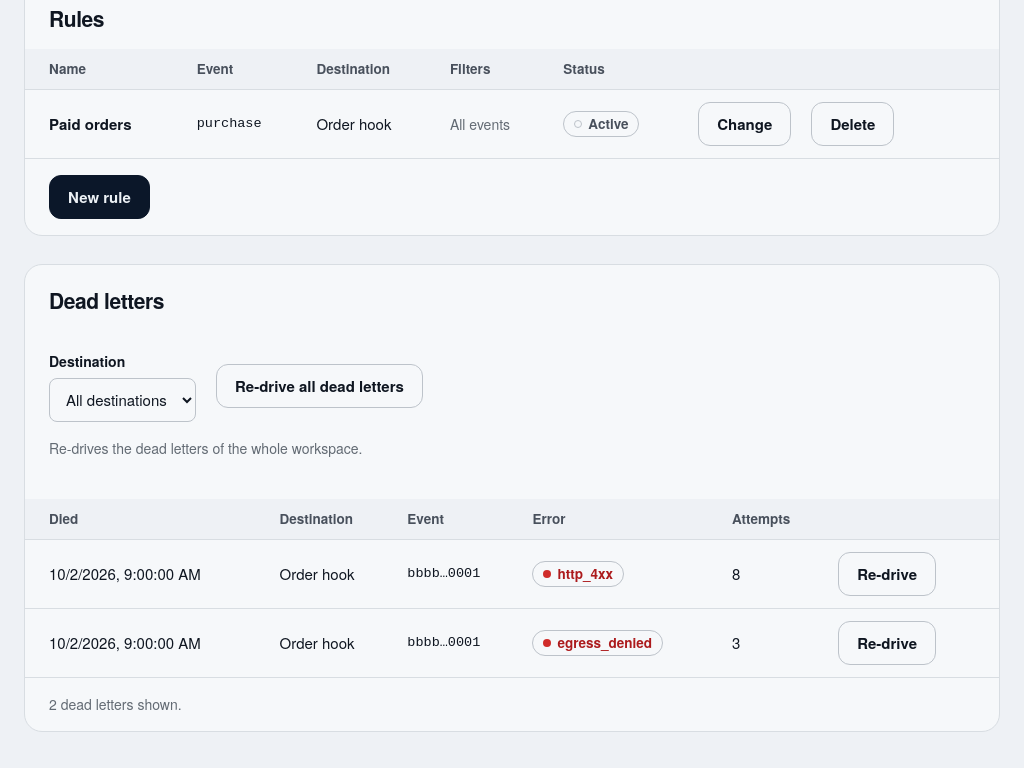
it: dead letters › re-drives one row only after the confirmation
The image size is (1024, 768).
(page scrolled)
Click the button with aria-label "Re-drive the dead letter" at (887, 574), box [838,552,936,596]
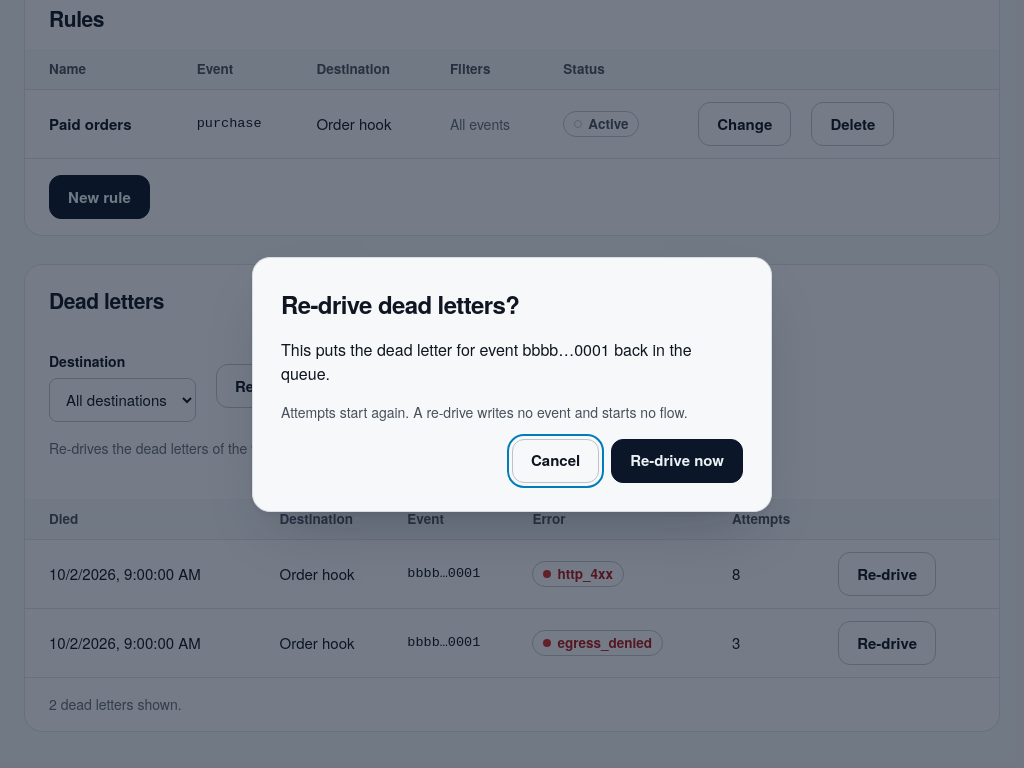
Click the button "Re-drive now" at (677, 460), box [611,438,743,482]
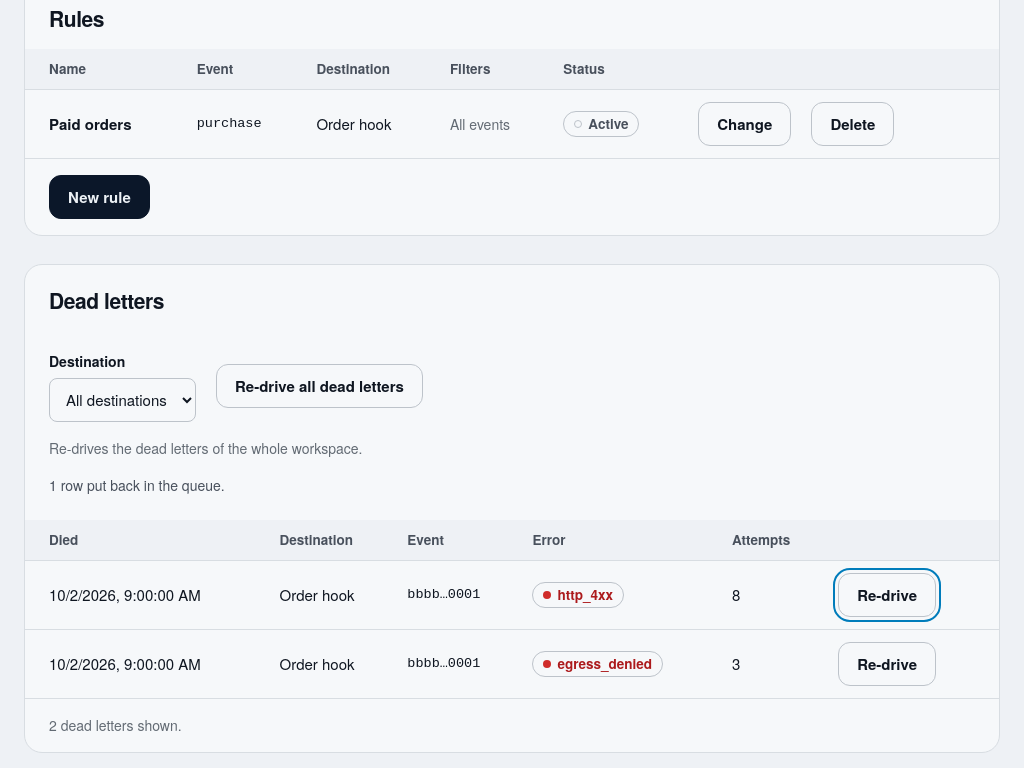
Now the text "1 row put back in the queue." is shown, box [49,475,225,495]
